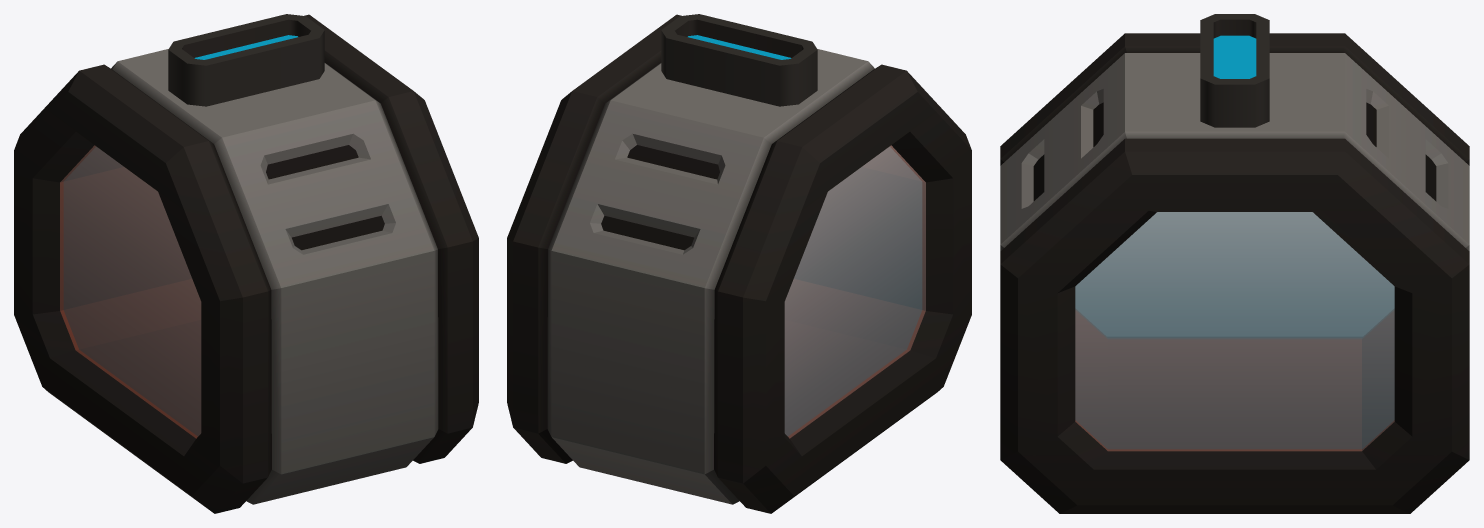
Rendered from MG1_Magazine.fbx.
The picture shows the model from 3 angles, left to right: view 1: azimuth 30°, elevation 25°; view 2: azimuth 150°, elevation 25°; view 3: azimuth 270°, elevation 25°; orthographic projection. The views are drawn at different scales.
Visible parts, largest first — view 1: MG1_Magazine; view 2: MG1_Magazine; view 3: MG1_Magazine.
Part boxes in pixels (left/top/right/bottom): MG1_Magazine: left=14, top=14, right=478, bottom=513; MG1_Magazine: left=507, top=14, right=971, bottom=513; MG1_Magazine: left=1000, top=14, right=1469, bottom=513.
Size of the model in its own units: 8.45 by 12.01 by 12.59.
